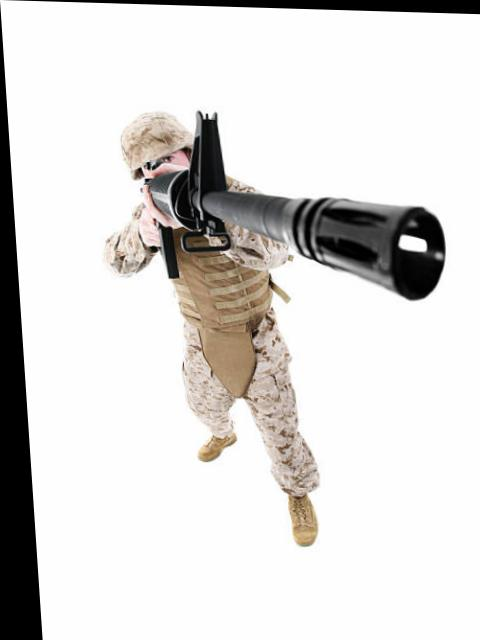other: (124, 118, 287, 491)
